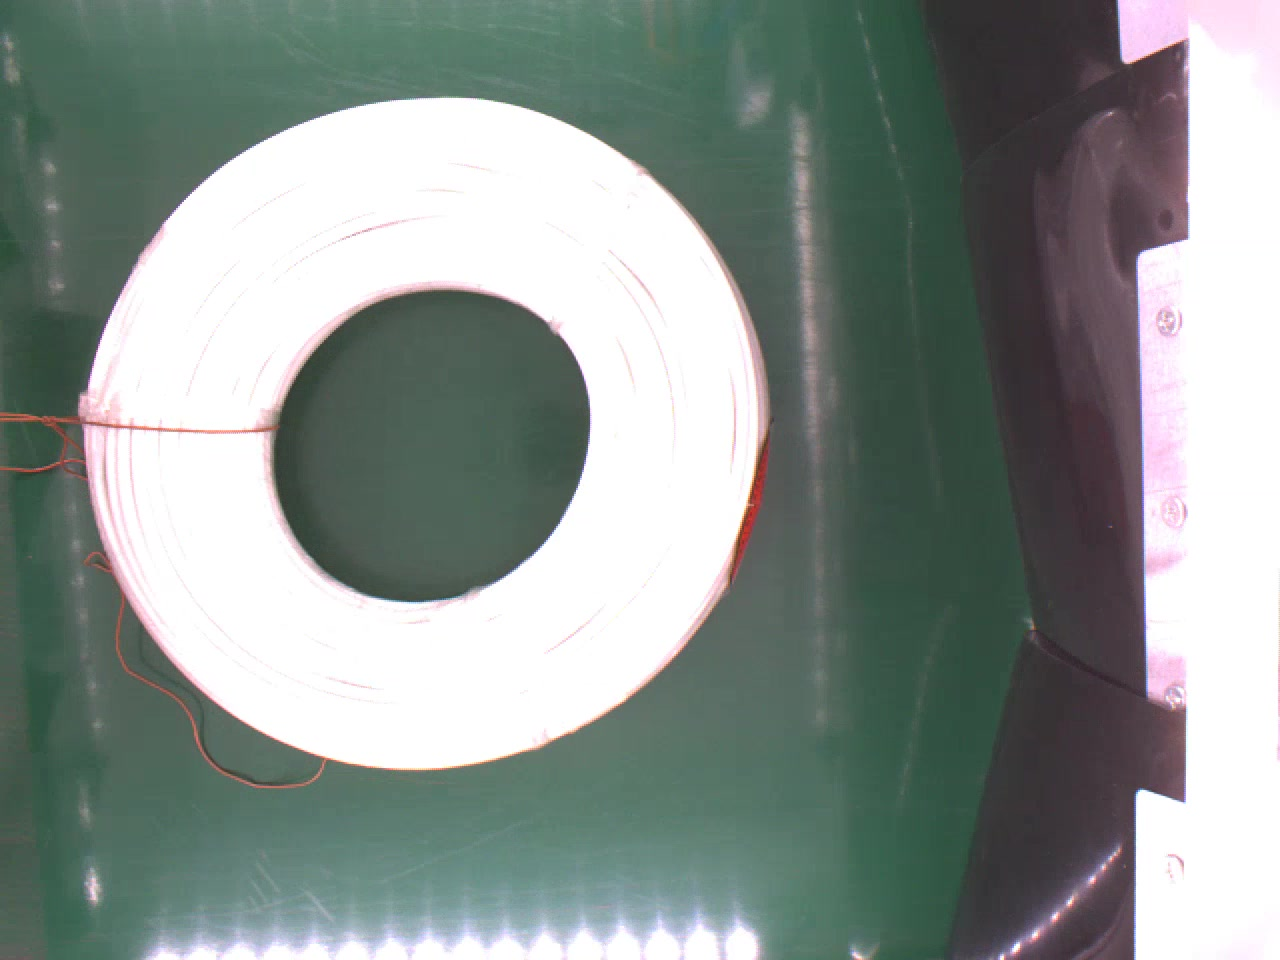white: (87, 95, 769, 759)
